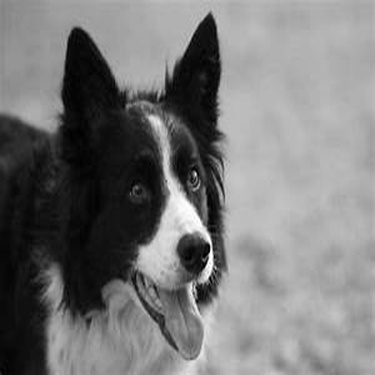dog: (3, 2, 235, 373)
